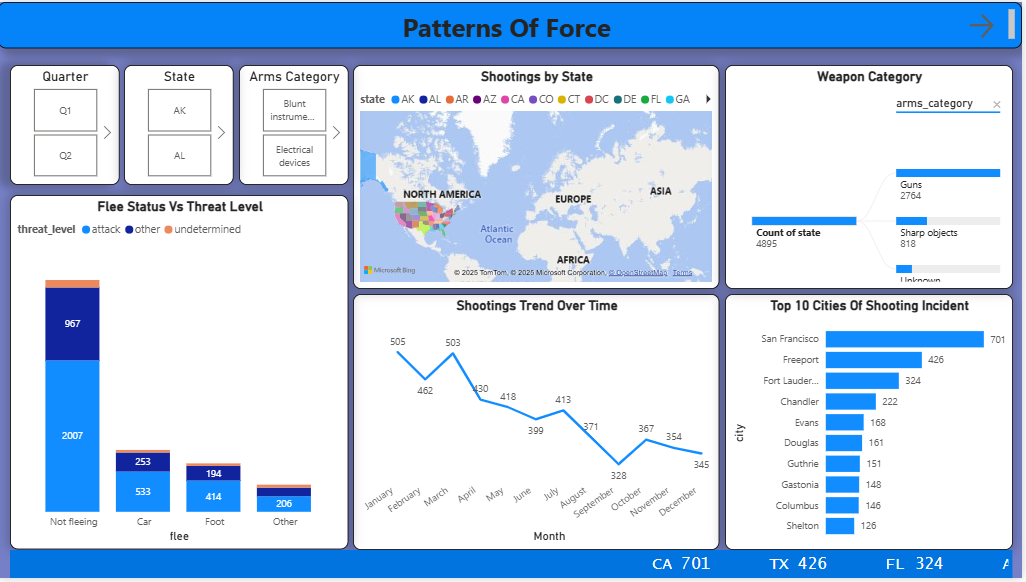

Layout of this report page (visuals, bound fields, positions):
{"tool":"powerbi","page":{"name":"Patterns of Force","canvas":[1280,720],"ordinal":1},"visuals":[{"type":"lineChart","title":"Shootings Trend Over Time","fields":{"Category":["Date.Month"],"Y":["CountNonNull(shootings - shootings.id)"]},"box":[444.2,365,458.3,320],"z":0},{"type":"filledMap","title":"Shootings by State","fields":{"Category":["Location.state"],"Series":["shootings - shootings.state"]},"box":[443.8,78.3,458.3,280],"z":1000},{"type":"clusteredBarChart","title":"Top 10 Cities Of Shooting Incident","fields":{"Category":["Location.city"],"Y":["CountNonNull(shootings - shootings.id)"]},"box":[908.3,365,360,320],"z":2000},{"type":"decompositionTreeVisual","title":"Weapon Category","fields":{"ExplainBy":["Weapon.arms_category"],"Analyze":["CountNonNull(shootings - shootings.state)"]},"box":[908.3,78.3,360,280],"z":3000},{"type":"columnChart","title":"Flee Status Vs Threat Level","fields":{"Category":["shootings - shootings.flee"],"Series":["shootings - shootings.threat_level"],"Y":["CountNonNull(shootings - shootings.id)"]},"box":[15,241.7,423.3,443.3],"z":4000},{"type":"slicer","title":"Quarter","fields":{"Values":["Date.Quarter"]},"box":[15,78.3,136.7,150],"z":5000},{"type":"slicer","title":"Arms Category","fields":{"Values":["Weapon.arms_category"]},"box":[300.8,78.3,136.7,150],"z":6000},{"type":"slicer","title":"State","fields":{"Values":["Location.state"]},"box":[157.9,78.3,136.7,150],"z":7000},{"type":"textbox","box":[0,0,1280,58.3],"z":8000},{"type":"actionButton","box":[1208.3,10,71.7,40],"z":9000},{"type":"ScrollingTextVisual1448795304508","fields":{"Category":["shootings - shootings.state"],"Measure Absolute":["CountNonNull(shootings - shootings.id)"]},"box":[15,685,1253.3,35],"z":9001}]}

Visuals, with their boxes in screenshot pixels (x1, y1, x2, y2), scaled from the page's 1280x720 canvas onto the 1026x582 screenshot:
"Shootings Trend Over Time" lineChart: 356, 295, 723, 554
"Shootings by State" filledMap: 356, 63, 723, 290
"Top 10 Cities Of Shooting Incident" clusteredBarChart: 728, 295, 1017, 554
"Weapon Category" decompositionTreeVisual: 728, 63, 1017, 290
"Flee Status Vs Threat Level" columnChart: 12, 195, 351, 554
"Quarter" slicer: 12, 63, 122, 185
"Arms Category" slicer: 241, 63, 351, 185
"State" slicer: 127, 63, 236, 185
textbox: 0, 0, 1025, 47
actionButton: 969, 8, 1025, 40
ScrollingTextVisual1448795304508 - shootings - shootings.state x CountNonNull(shootings - shootings.id): 12, 554, 1017, 581
